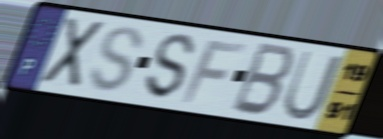B: (227, 39, 299, 119)
F: (178, 38, 250, 105)
S: (87, 24, 146, 95), (144, 31, 197, 102)
U: (279, 47, 345, 123)
X: (39, 15, 107, 90)
